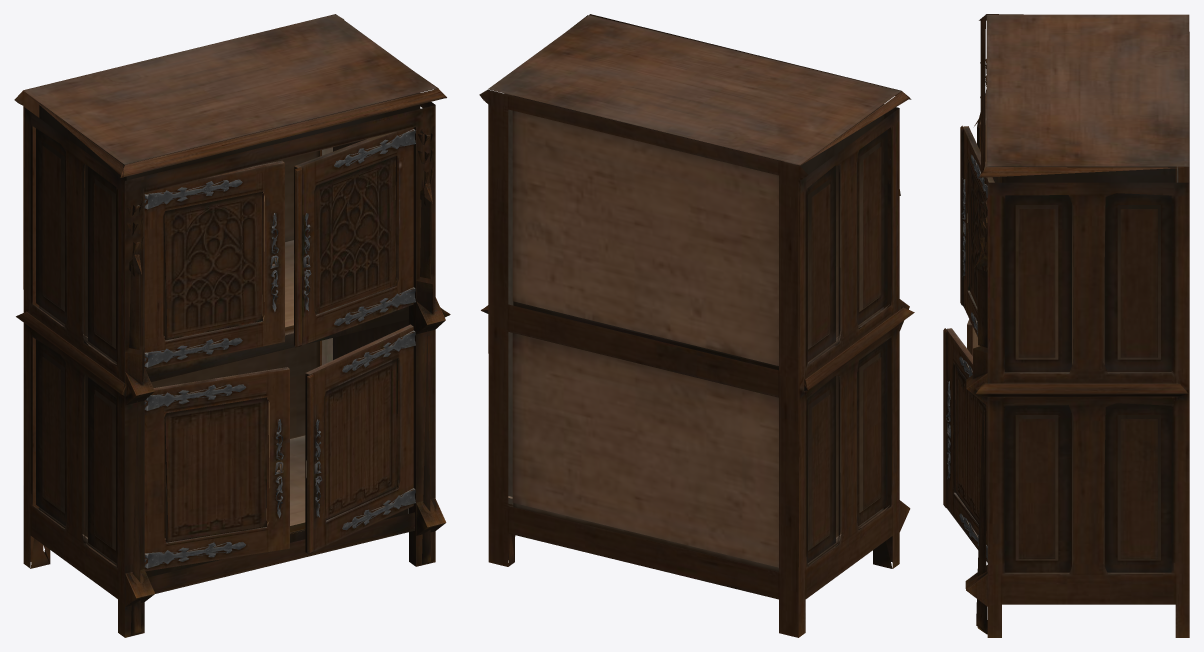
Rendered from GothicCabinet_01.fbx.
3 renders of one model, left to right at view 1: azimuth 30°, elevation 25°; view 2: azimuth 150°, elevation 25°; view 3: azimuth 270°, elevation 25°, orthographic.
Parts seen in each view (by area): view 1: GothicCabinet_01_cabinet, GothicCabinet_01_door3, GothicCabinet_01_door1, GothicCabinet_01_door2, GothicCabinet_01_door4; view 2: GothicCabinet_01_cabinet; view 3: GothicCabinet_01_cabinet, GothicCabinet_01_door4, GothicCabinet_01_door2.
Part boxes in pixels (x1=…): GothicCabinet_01_cabinet: x1=14, y1=14, x2=450, y2=637; GothicCabinet_01_door3: x1=144, y1=367, x2=289, y2=571; GothicCabinet_01_door1: x1=144, y1=160, x2=284, y2=369; GothicCabinet_01_door2: x1=294, y1=127, x2=415, y2=347; GothicCabinet_01_door4: x1=305, y1=324, x2=415, y2=554; GothicCabinet_01_cabinet: x1=479, y1=14, x2=914, y2=637; GothicCabinet_01_cabinet: x1=965, y1=14, x2=1189, y2=637; GothicCabinet_01_door4: x1=943, y1=328, x2=987, y2=562; GothicCabinet_01_door2: x1=960, y1=125, x2=994, y2=336.
Bounding box in the file's own units: 172 × 236 × 112.
Materials: 1 (1 with a texture image).
